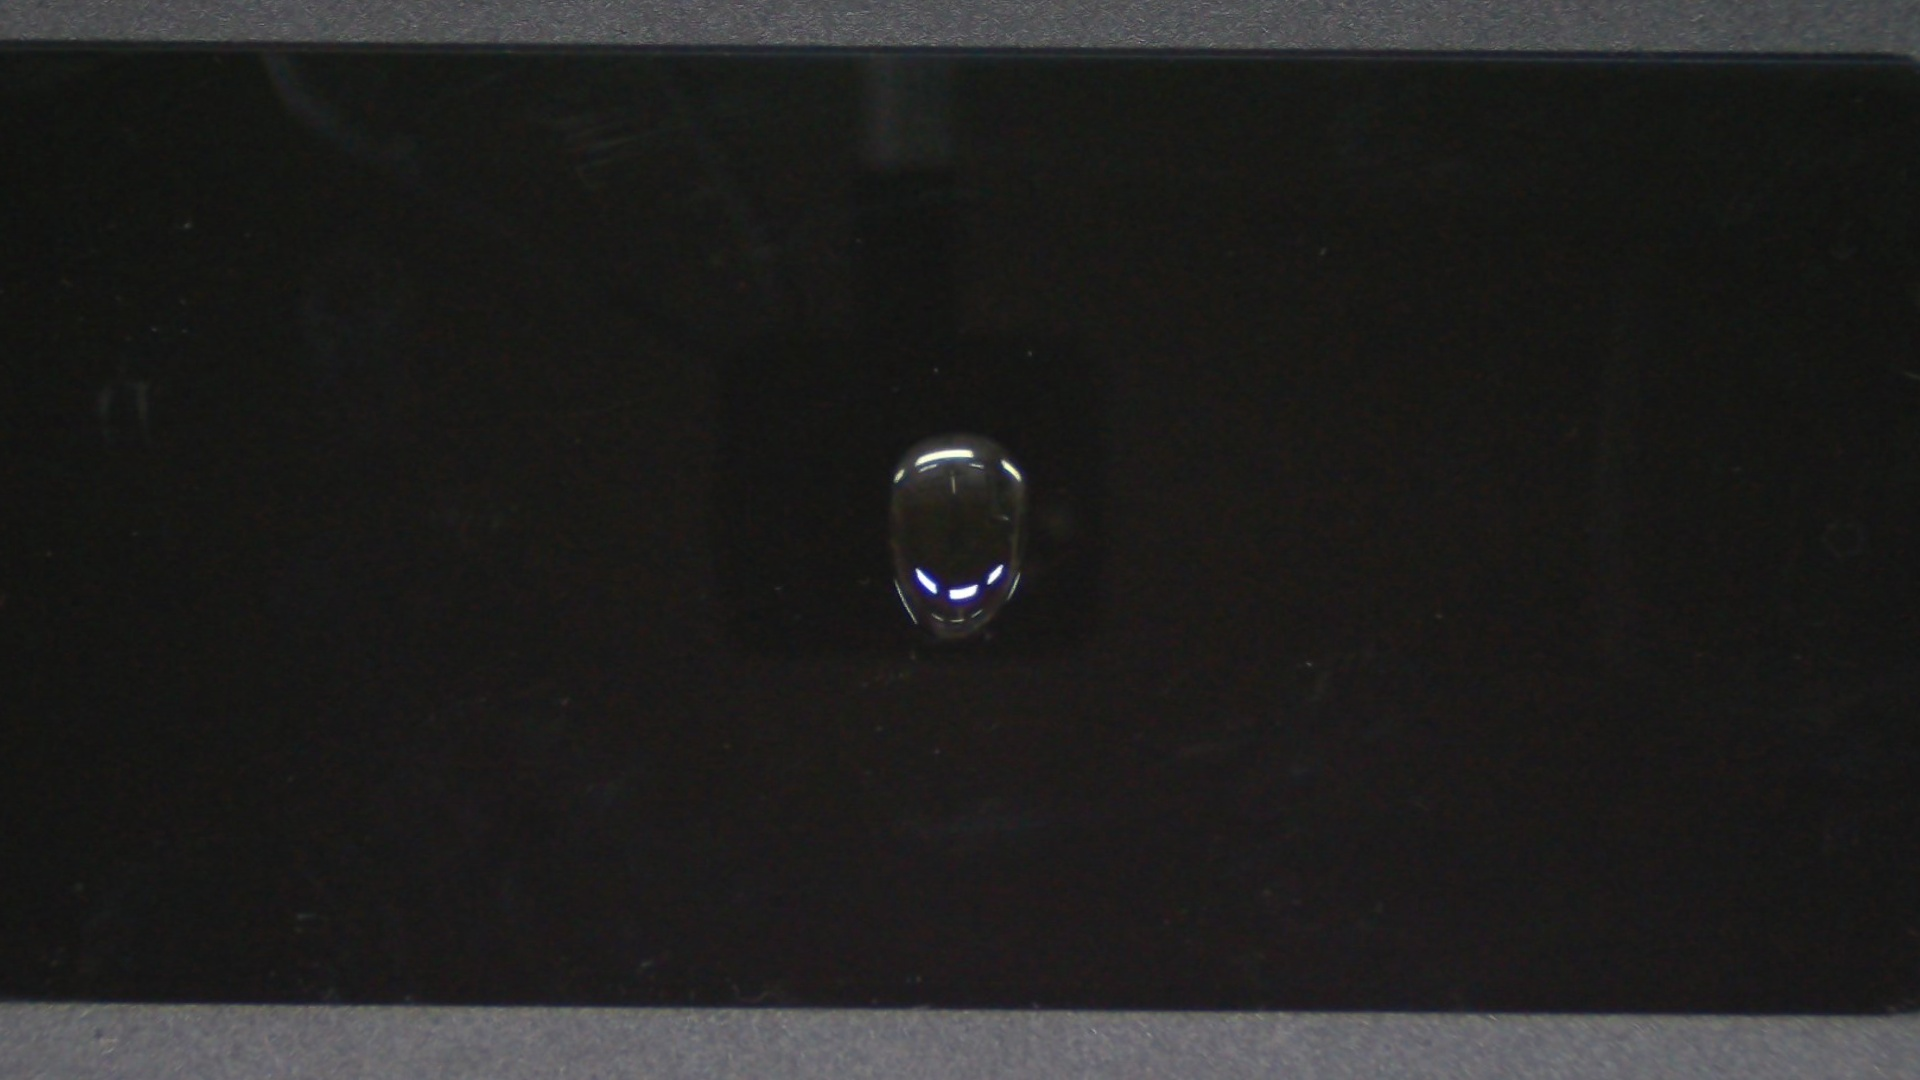oil: (355, 181, 1547, 683)
